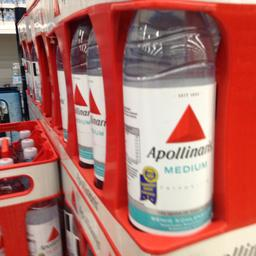water: (121, 6, 215, 236)
